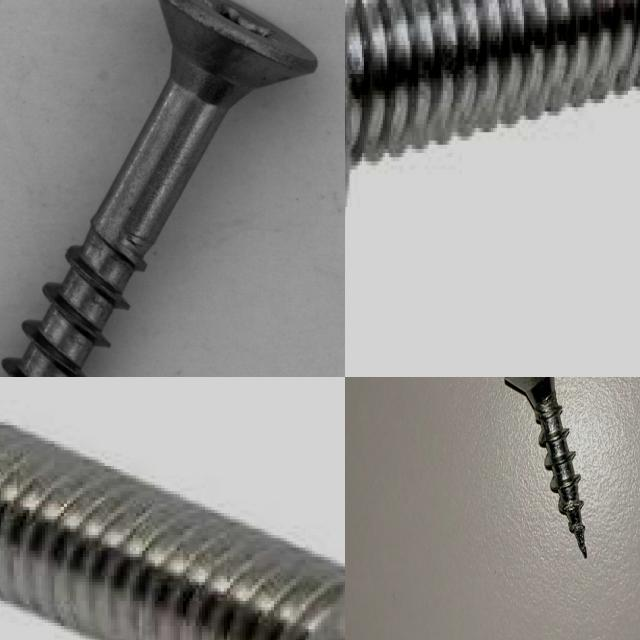Screw: (0, 0, 341, 377), (0, 422, 345, 640), (345, 0, 640, 205), (504, 377, 587, 558)
